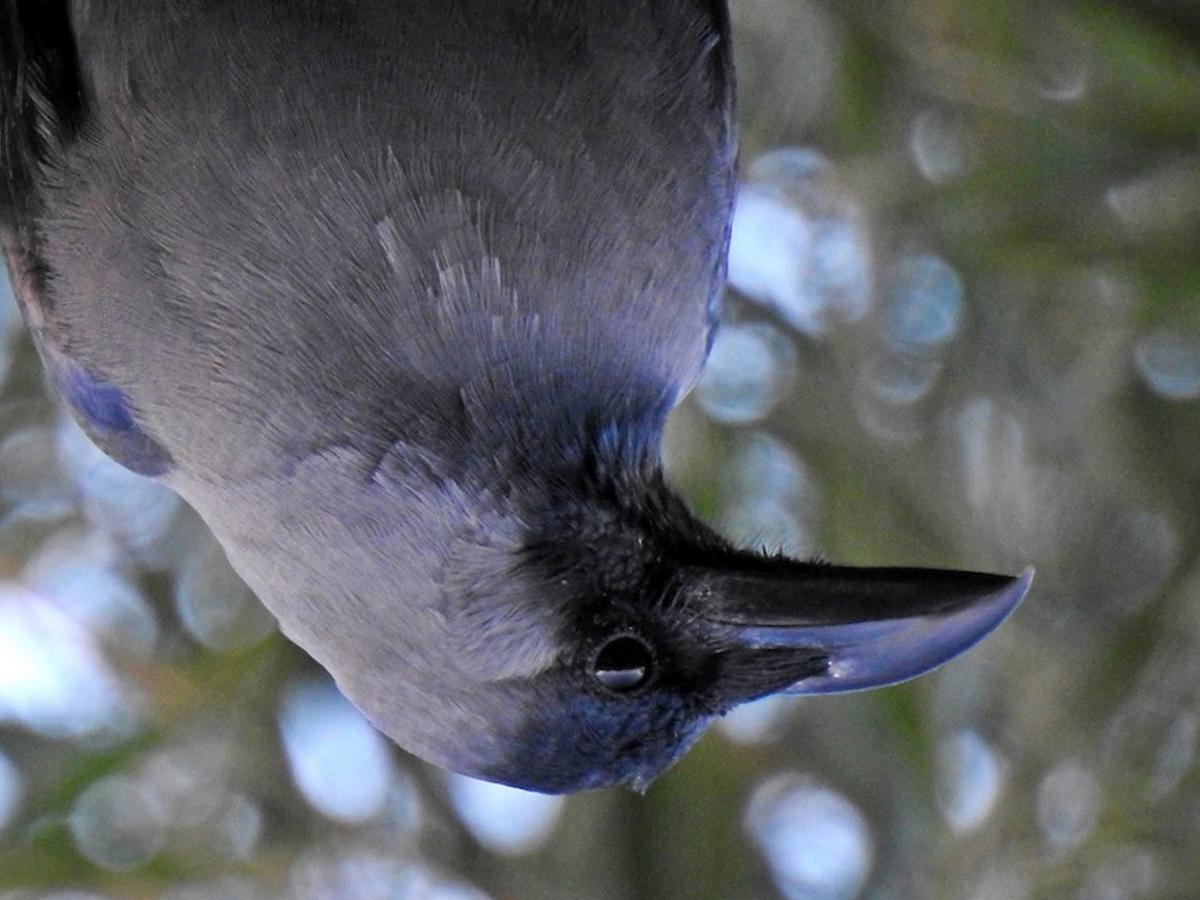crow: (1, 1, 1107, 808)
